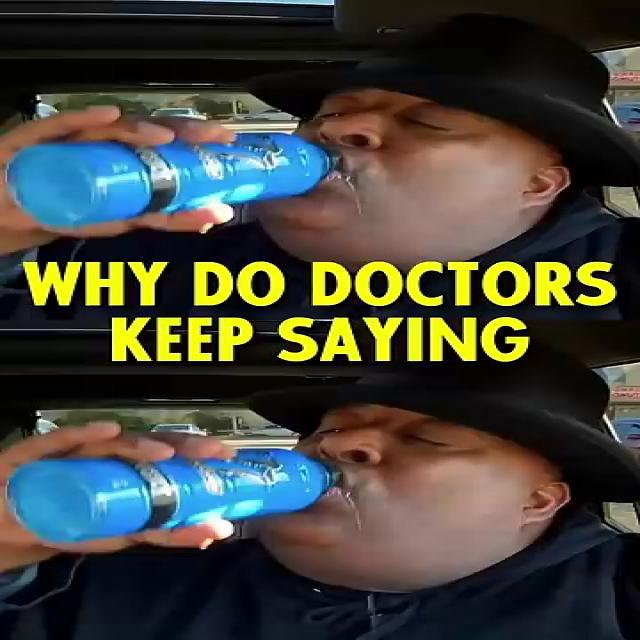Bottle: (3, 133, 330, 227), (6, 450, 333, 543)
Hand: (2, 413, 250, 569), (6, 97, 243, 245)
Mouth: (265, 153, 378, 196), (278, 465, 374, 513)
